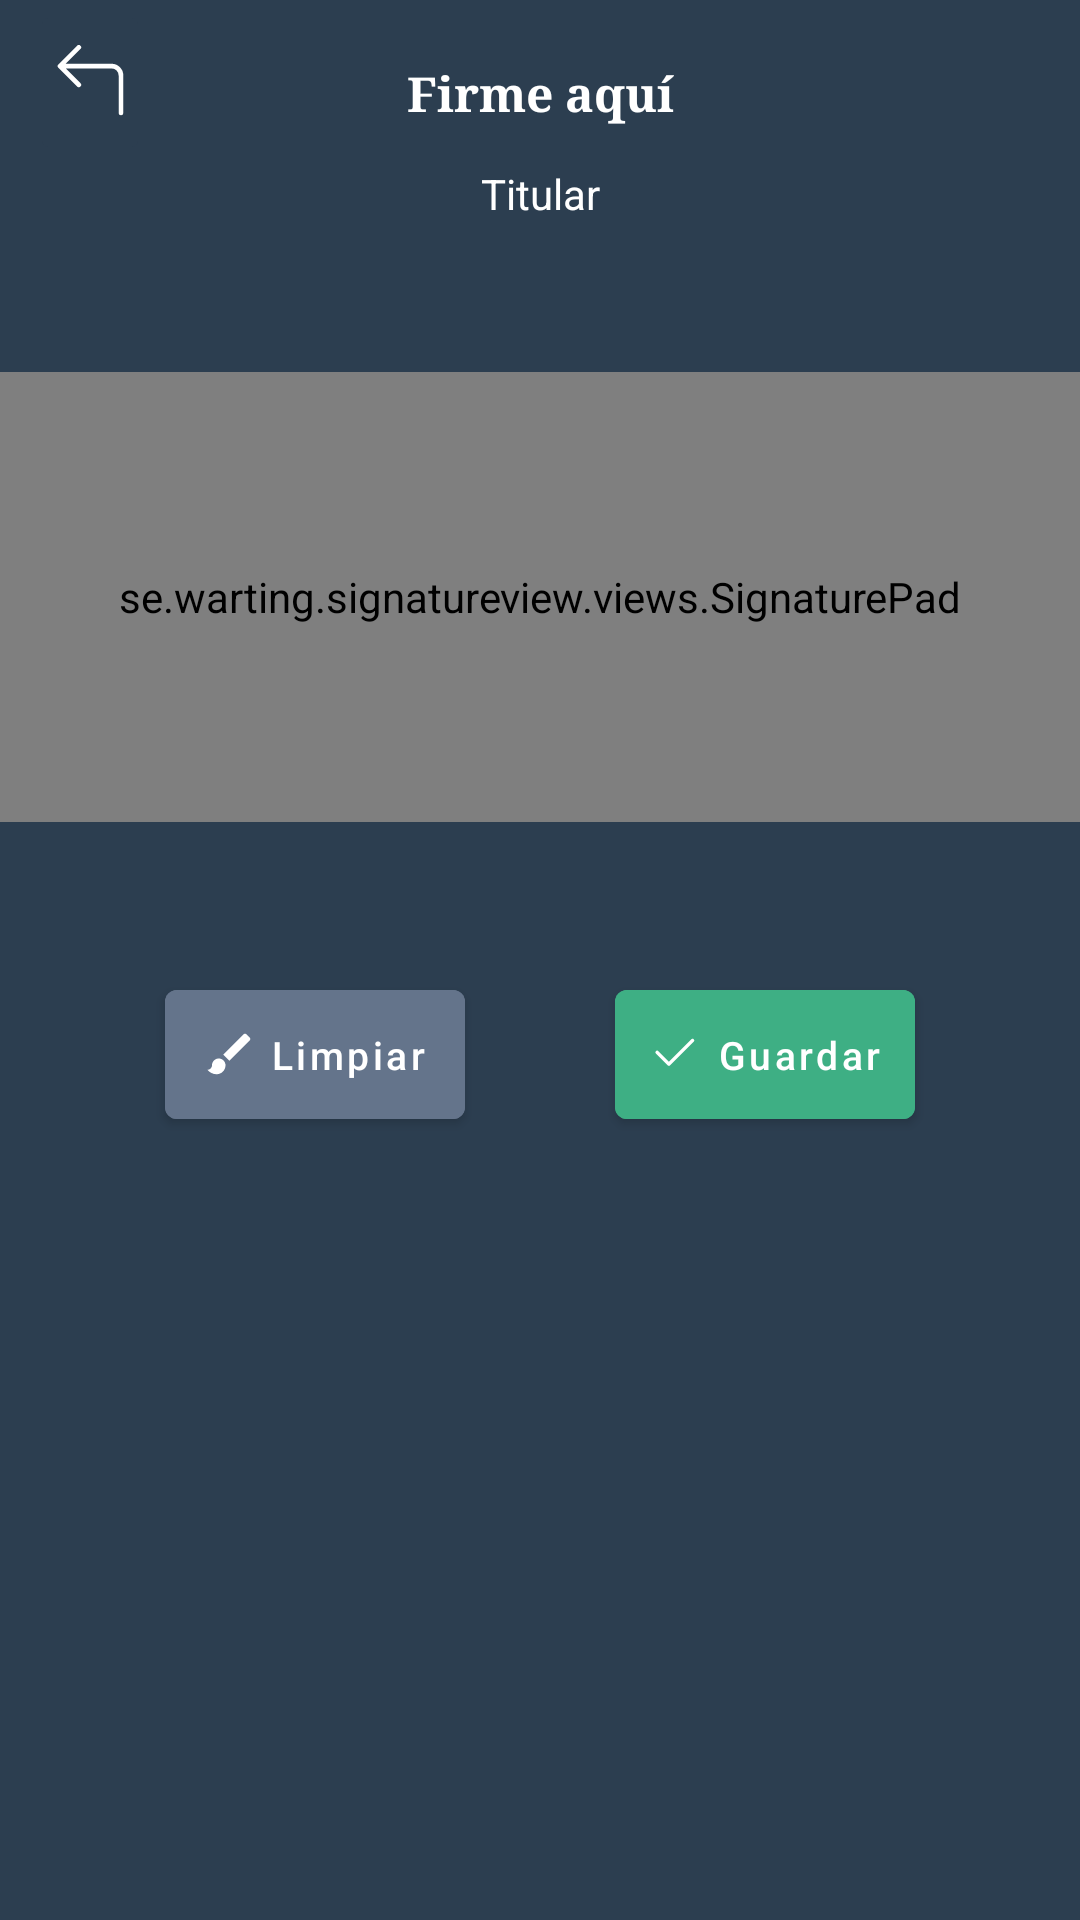

Where to tap for icons on this 1080 x 1920 app screen, as [x,y]:
regresar firma: [90,80]
